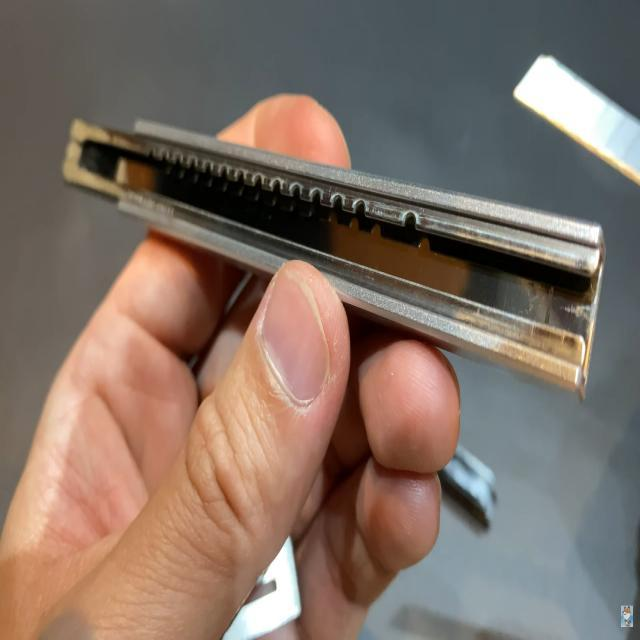cutter: (4, 16, 640, 494)
